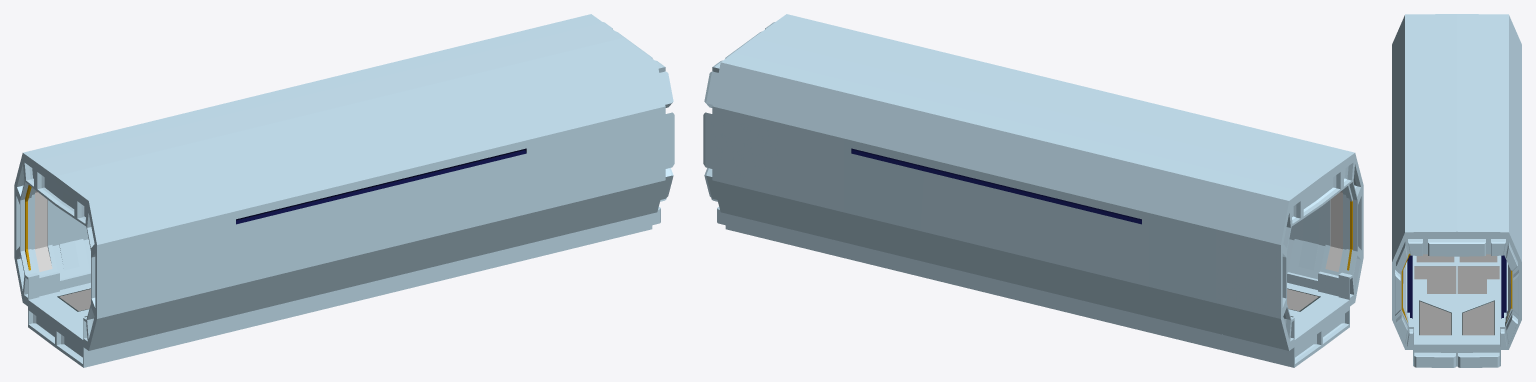
The model's file is corridor.fbx.
3 renders of one model, left to right at view 1: azimuth 30°, elevation 25°; view 2: azimuth 150°, elevation 25°; view 3: azimuth 270°, elevation 25°, orthographic. The views are drawn at different scales.
Visible parts, largest first — view 1: Cube.016; view 2: Cube.016; view 3: Cube.016.
Boxes of the visible parts, <box> form: Cube.016: <box>14,14,674,367</box>; Cube.016: <box>703,14,1363,367</box>; Cube.016: <box>1392,14,1521,367</box>.
Bounding box in the file's own units: 163 × 46.07 × 40.2.
